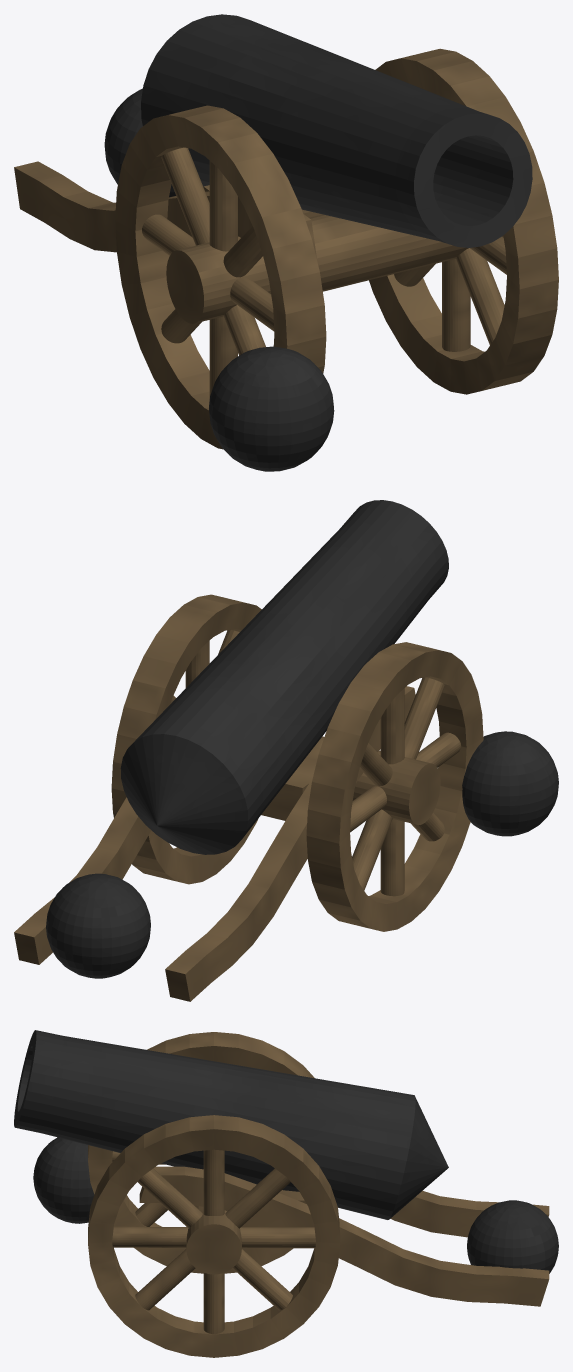
The model's file is cimpletoon.f32c67875649.cannon.glb.
3 renders of one model, top to bottom at view 1: azimuth 30°, elevation 25°; view 2: azimuth 150°, elevation 25°; view 3: azimuth 270°, elevation 25°, orthographic. The views are drawn at different scales.
Parts seen in each view (by area): view 1: cannon.glb; view 2: cannon.glb; view 3: cannon.glb.
Part boxes in pixels (bbox=[...]): cannon.glb: bbox=[14, 14, 558, 471]; cannon.glb: bbox=[14, 500, 558, 1001]; cannon.glb: bbox=[14, 1030, 558, 1357].
Size of the model in its own units: 1.52 by 1.5 by 2.66.
1 material, 1 textured.
